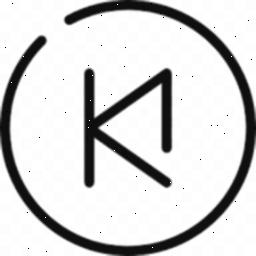k: (74, 59, 158, 191)
